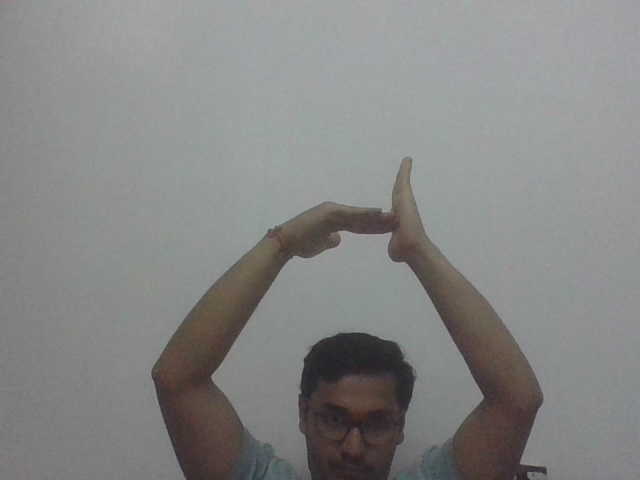Z: (274, 153, 434, 270)
